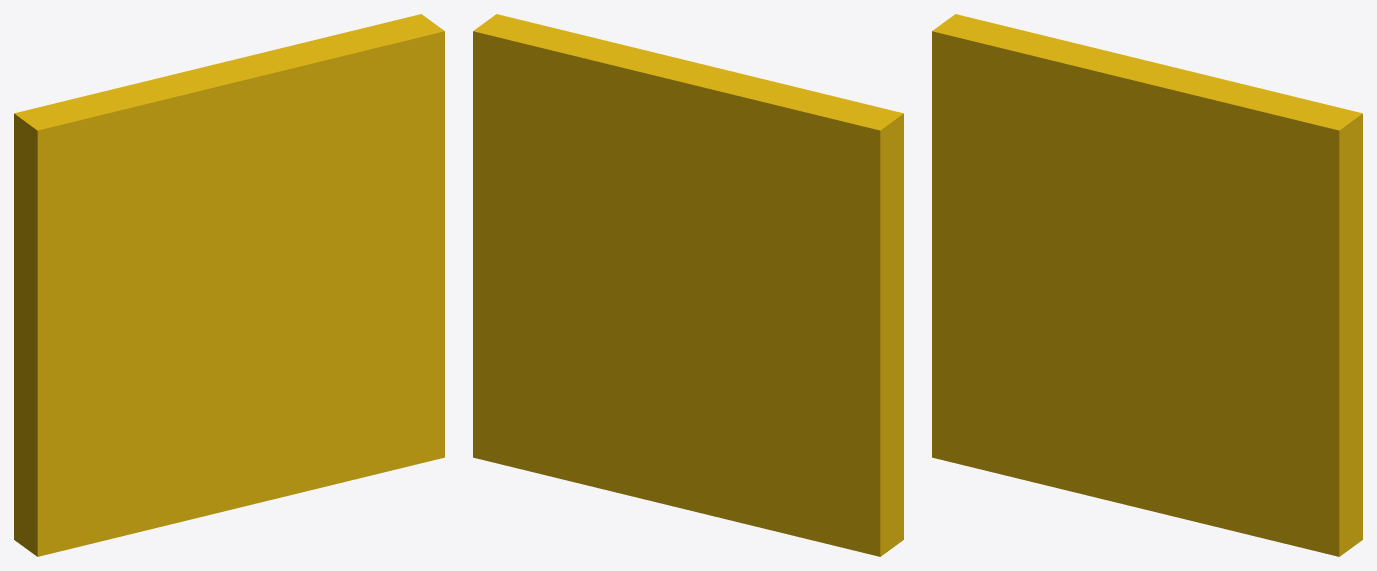
Rendered from Secretary-Room-Wall-1.fbx.
The picture shows the model from 3 angles, left to right: view 1: azimuth 30°, elevation 25°; view 2: azimuth 150°, elevation 25°; view 3: azimuth 330°, elevation 25°; orthographic projection.
Parts seen in each view (by area): view 1: Secretary-Room-Wall-1; view 2: Secretary-Room-Wall-1; view 3: Secretary-Room-Wall-1.
Part boxes in pixels (bbox=[...]): Secretary-Room-Wall-1: bbox=[14, 14, 444, 556]; Secretary-Room-Wall-1: bbox=[473, 14, 903, 556]; Secretary-Room-Wall-1: bbox=[932, 14, 1362, 556].
Size of the model in its own units: 2 by 2 by 0.2.
